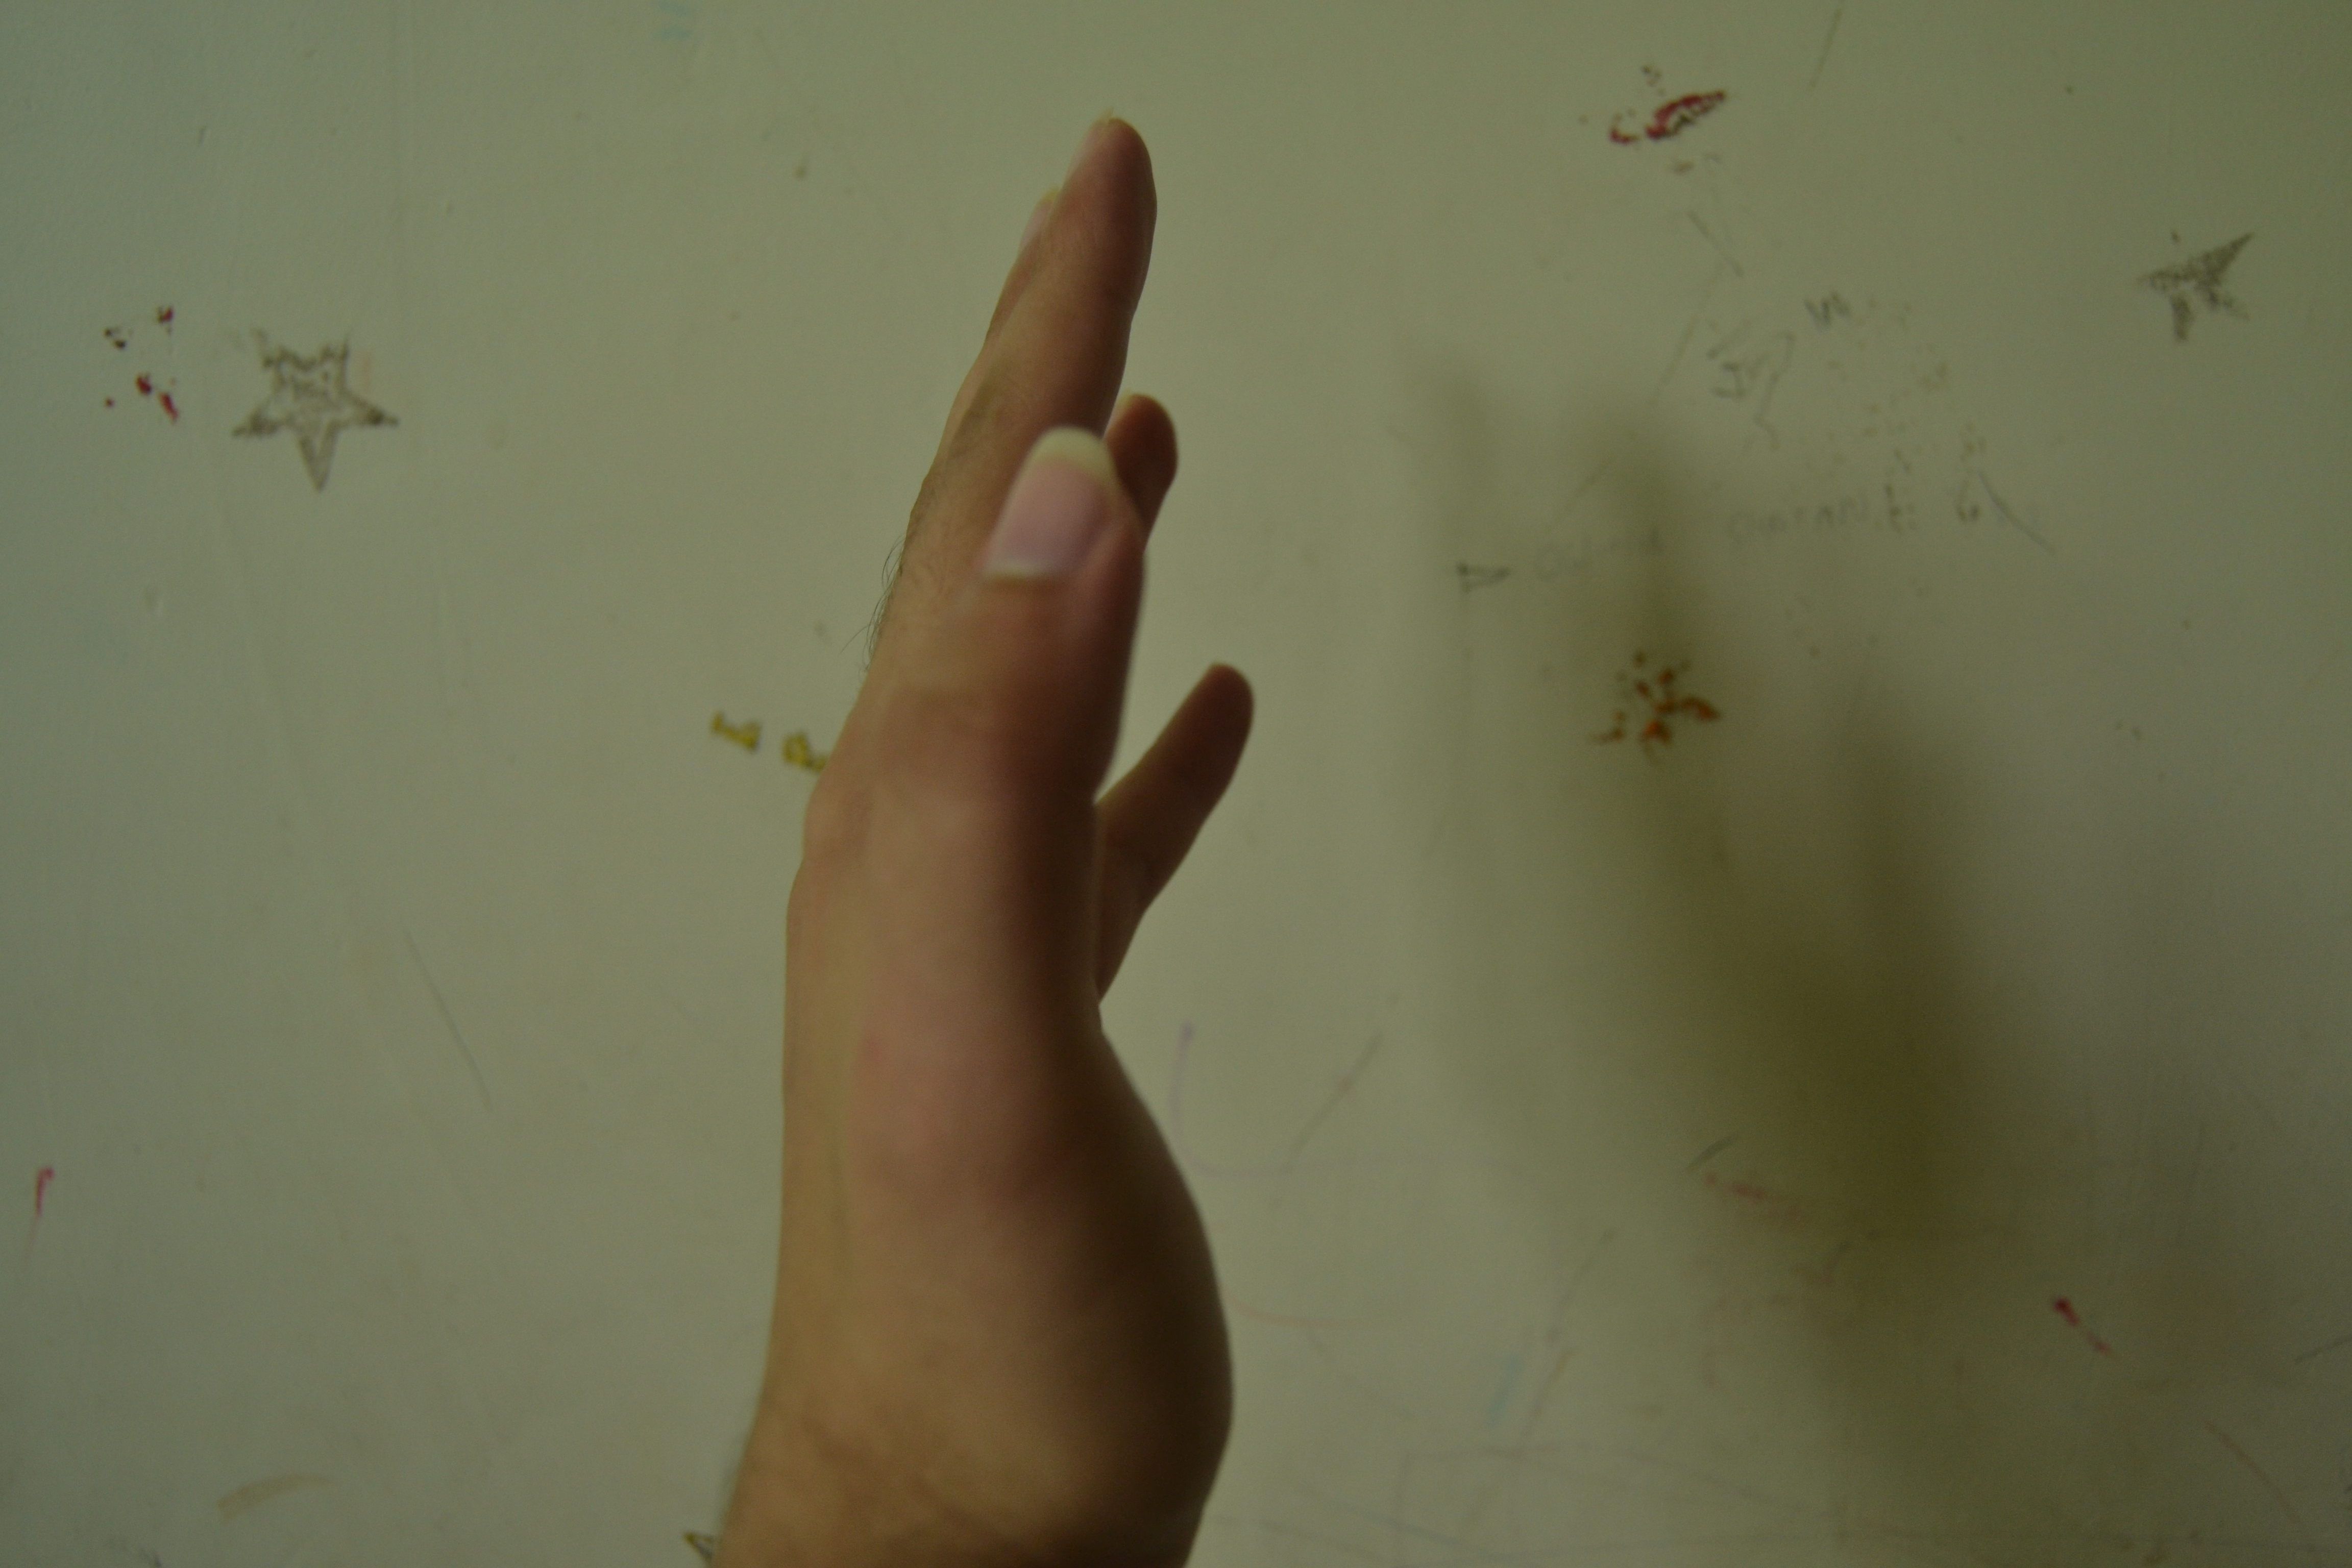move: (738, 72, 1389, 1480)
